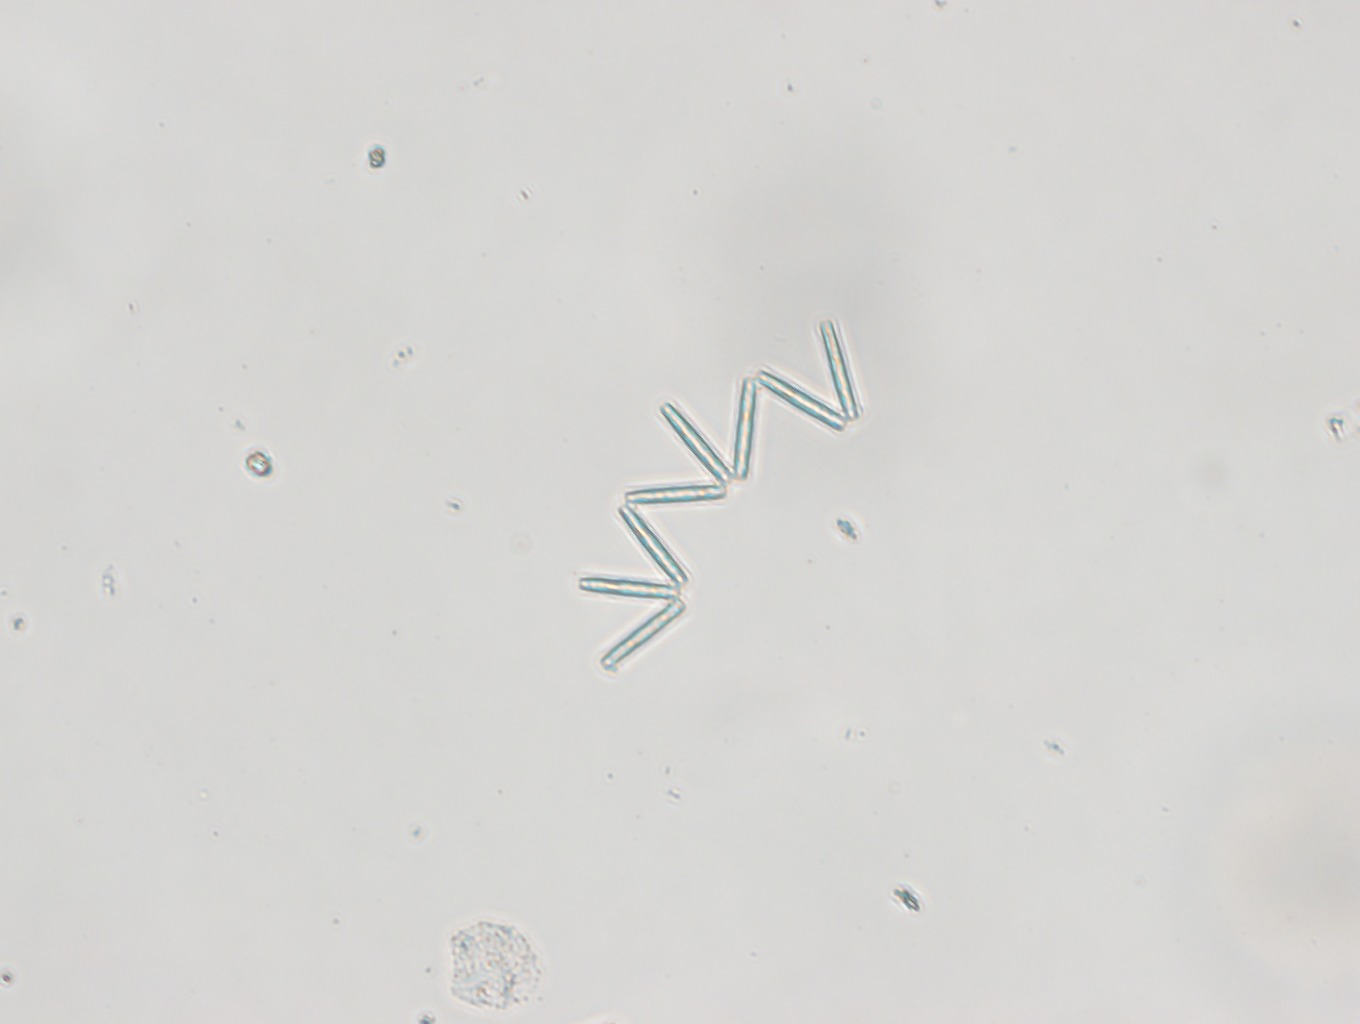thalassionema nitzschioides: (570, 304, 867, 681)
